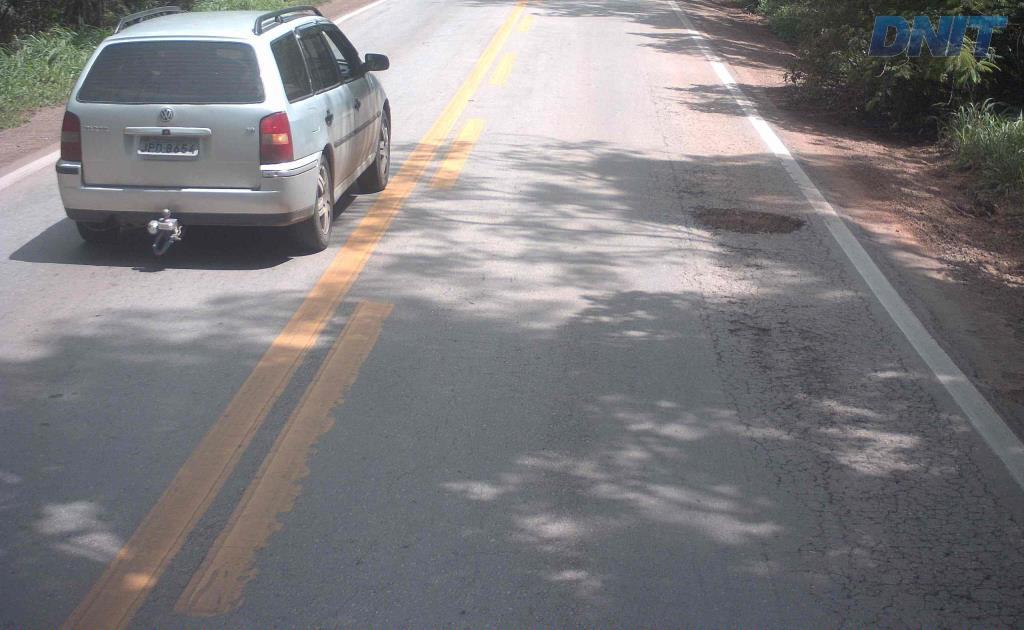pothole: (689, 203, 815, 239)
